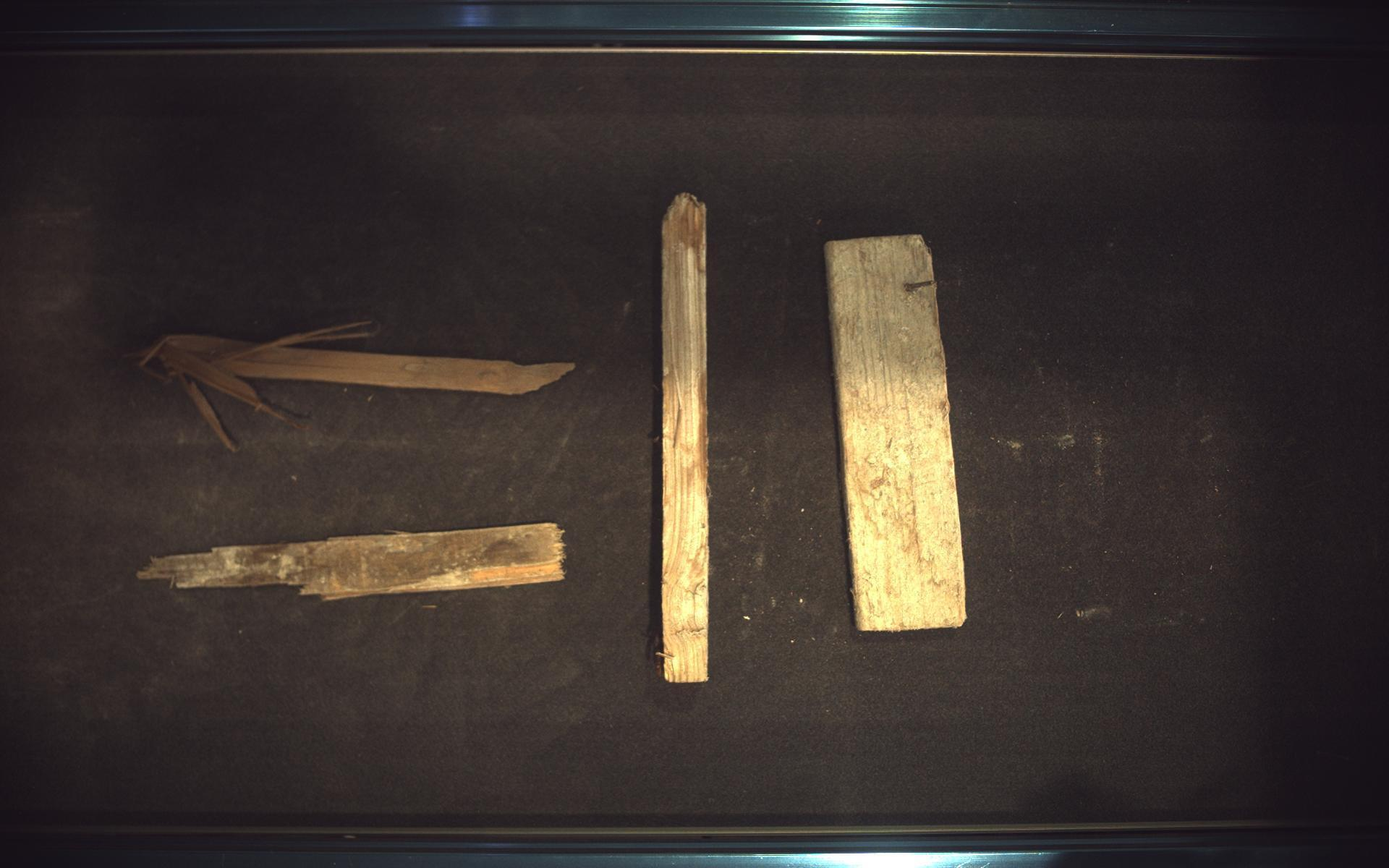wood: (132, 321, 575, 451), (827, 234, 968, 631), (137, 524, 564, 600), (663, 192, 710, 684)
